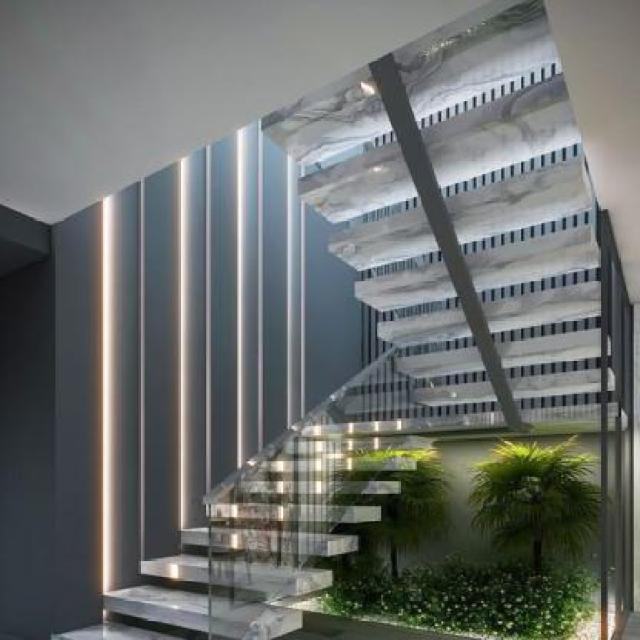stair: (62, 346, 430, 639)
